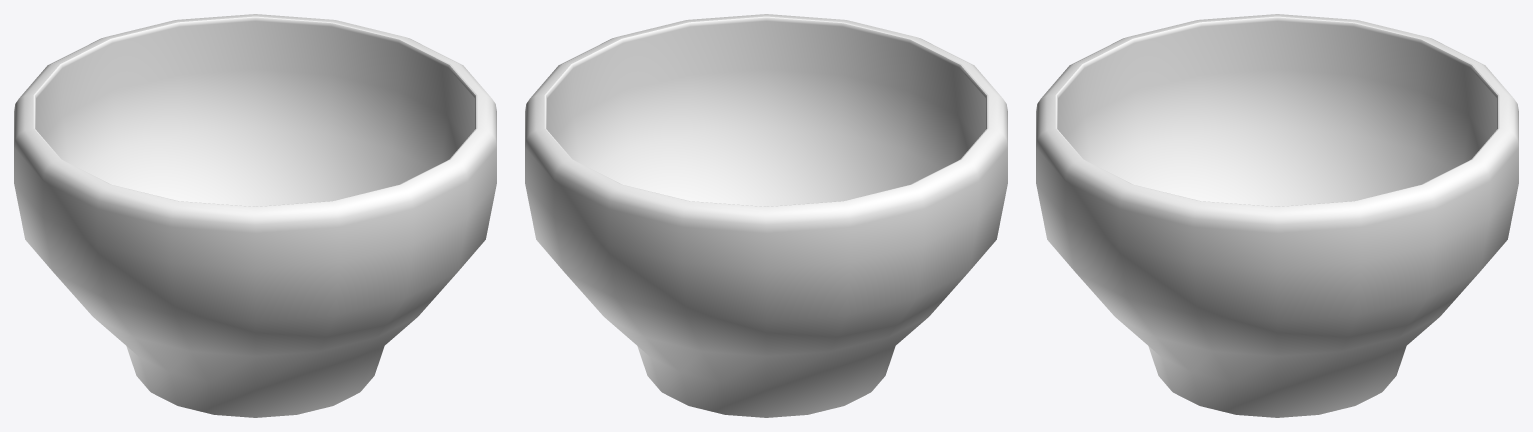
Rendered from Glass 3.FBX.
3 views of the same model, side by side, from view 1: azimuth 30°, elevation 25°; view 2: azimuth 150°, elevation 25°; view 3: azimuth 270°, elevation 25° (orthographic).
Parts seen in each view (by area): view 1: glass 3; view 2: glass 3; view 3: glass 3.
Boxes of the visible parts, left/top/right/bottom form: glass 3: left=14, top=14, right=496, bottom=417; glass 3: left=525, top=14, right=1007, bottom=417; glass 3: left=1036, top=14, right=1518, bottom=417.
Size of the model in its own units: 7.59 by 4.36 by 7.48.
1 material, 1 textured.
